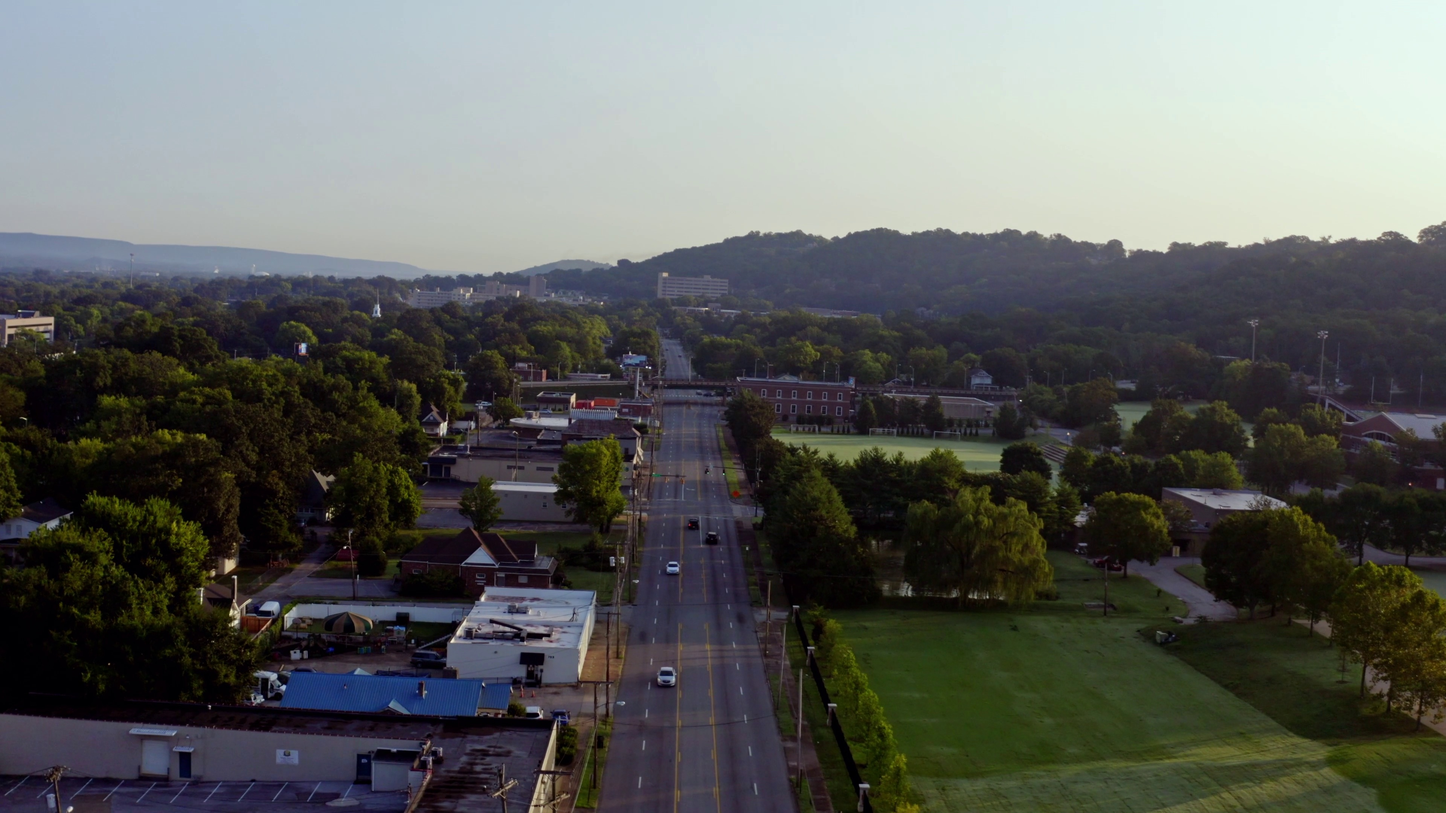Vehicle: (251, 670, 287, 701), (410, 650, 447, 669), (256, 601, 281, 626), (256, 601, 281, 625), (1093, 555, 1122, 571), (657, 667, 677, 687), (550, 709, 571, 726), (523, 704, 545, 719), (666, 562, 680, 575), (705, 532, 718, 544), (688, 519, 699, 530), (476, 400, 492, 406), (538, 409, 552, 414), (703, 392, 713, 397), (696, 391, 703, 395), (678, 353, 683, 357)
